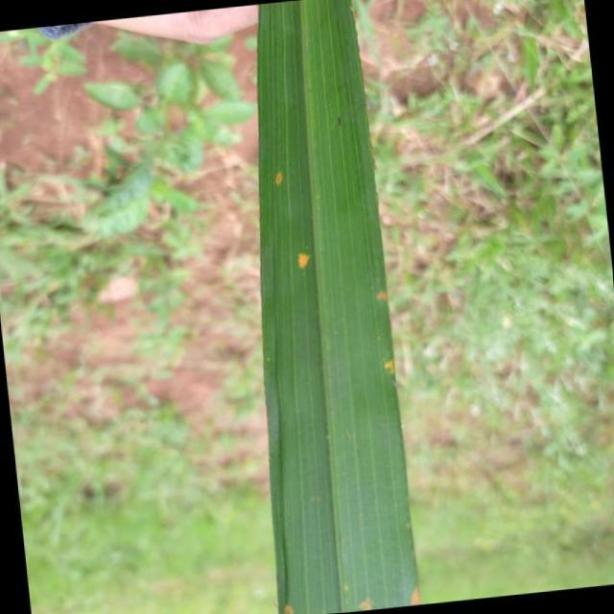Kalium: (256, 0, 424, 614)
